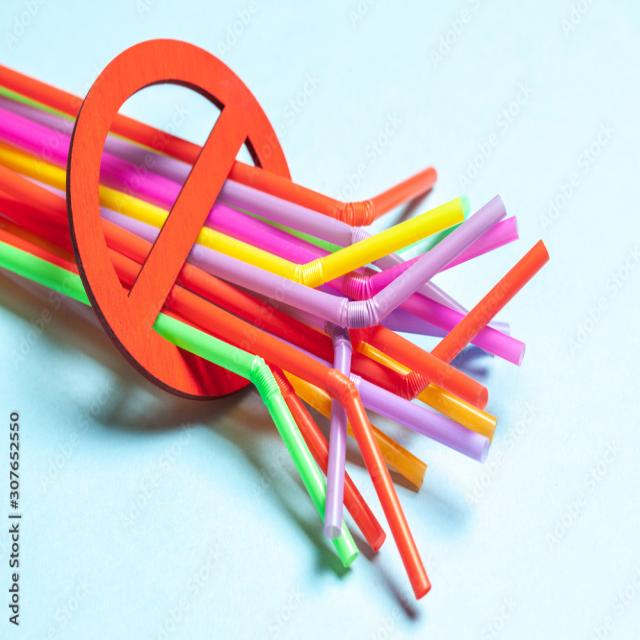plastic: (215, 182, 504, 345)
